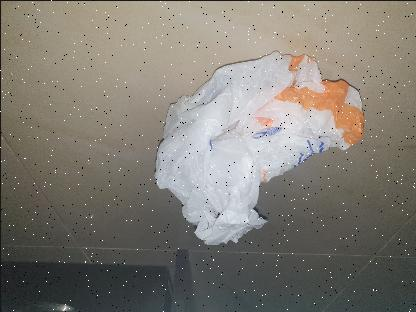Others: (152, 51, 366, 245)
